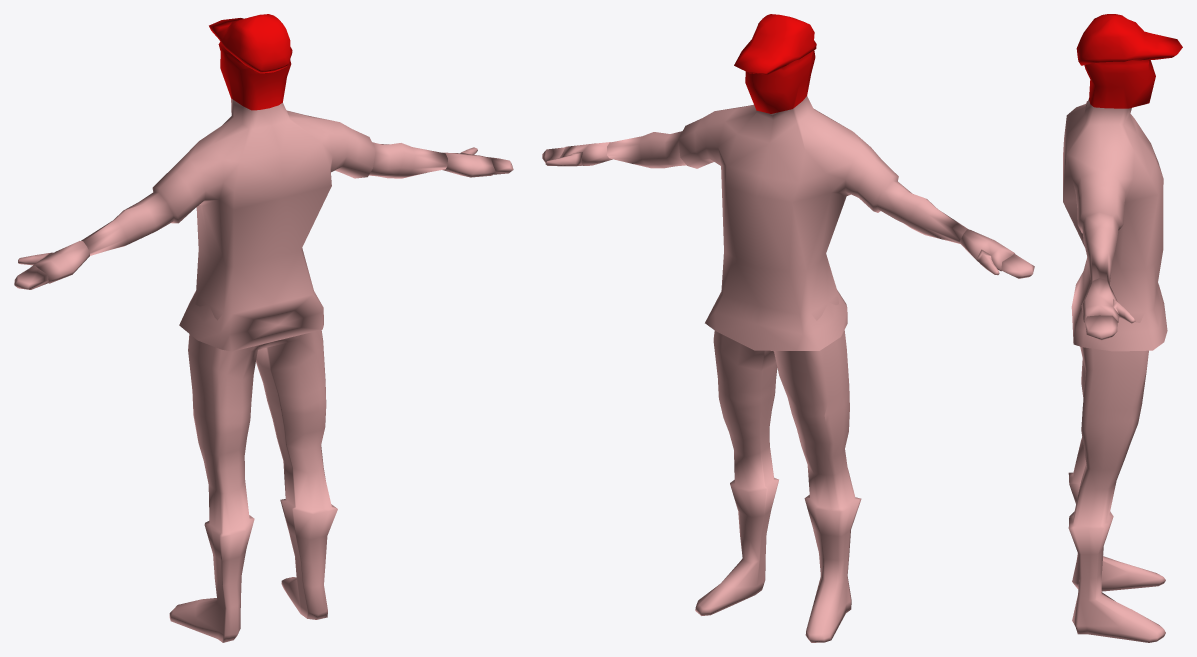
The model's file is EnemyOrigin_Half.fbx.
The picture shows the model from 3 angles, left to right: view 1: azimuth 30°, elevation 25°; view 2: azimuth 150°, elevation 25°; view 3: azimuth 270°, elevation 25°; orthographic projection.
Parts seen in each view (by area): view 1: Cube; view 2: Cube; view 3: Cube.
Boxes of the visible parts, box(x1,y1,x2,y2) form: Cube: box(14, 14, 513, 642); Cube: box(542, 14, 1034, 642); Cube: box(1063, 14, 1182, 642).
Bounding box in the file's own units: 2.89 × 3.35 × 0.6141.
